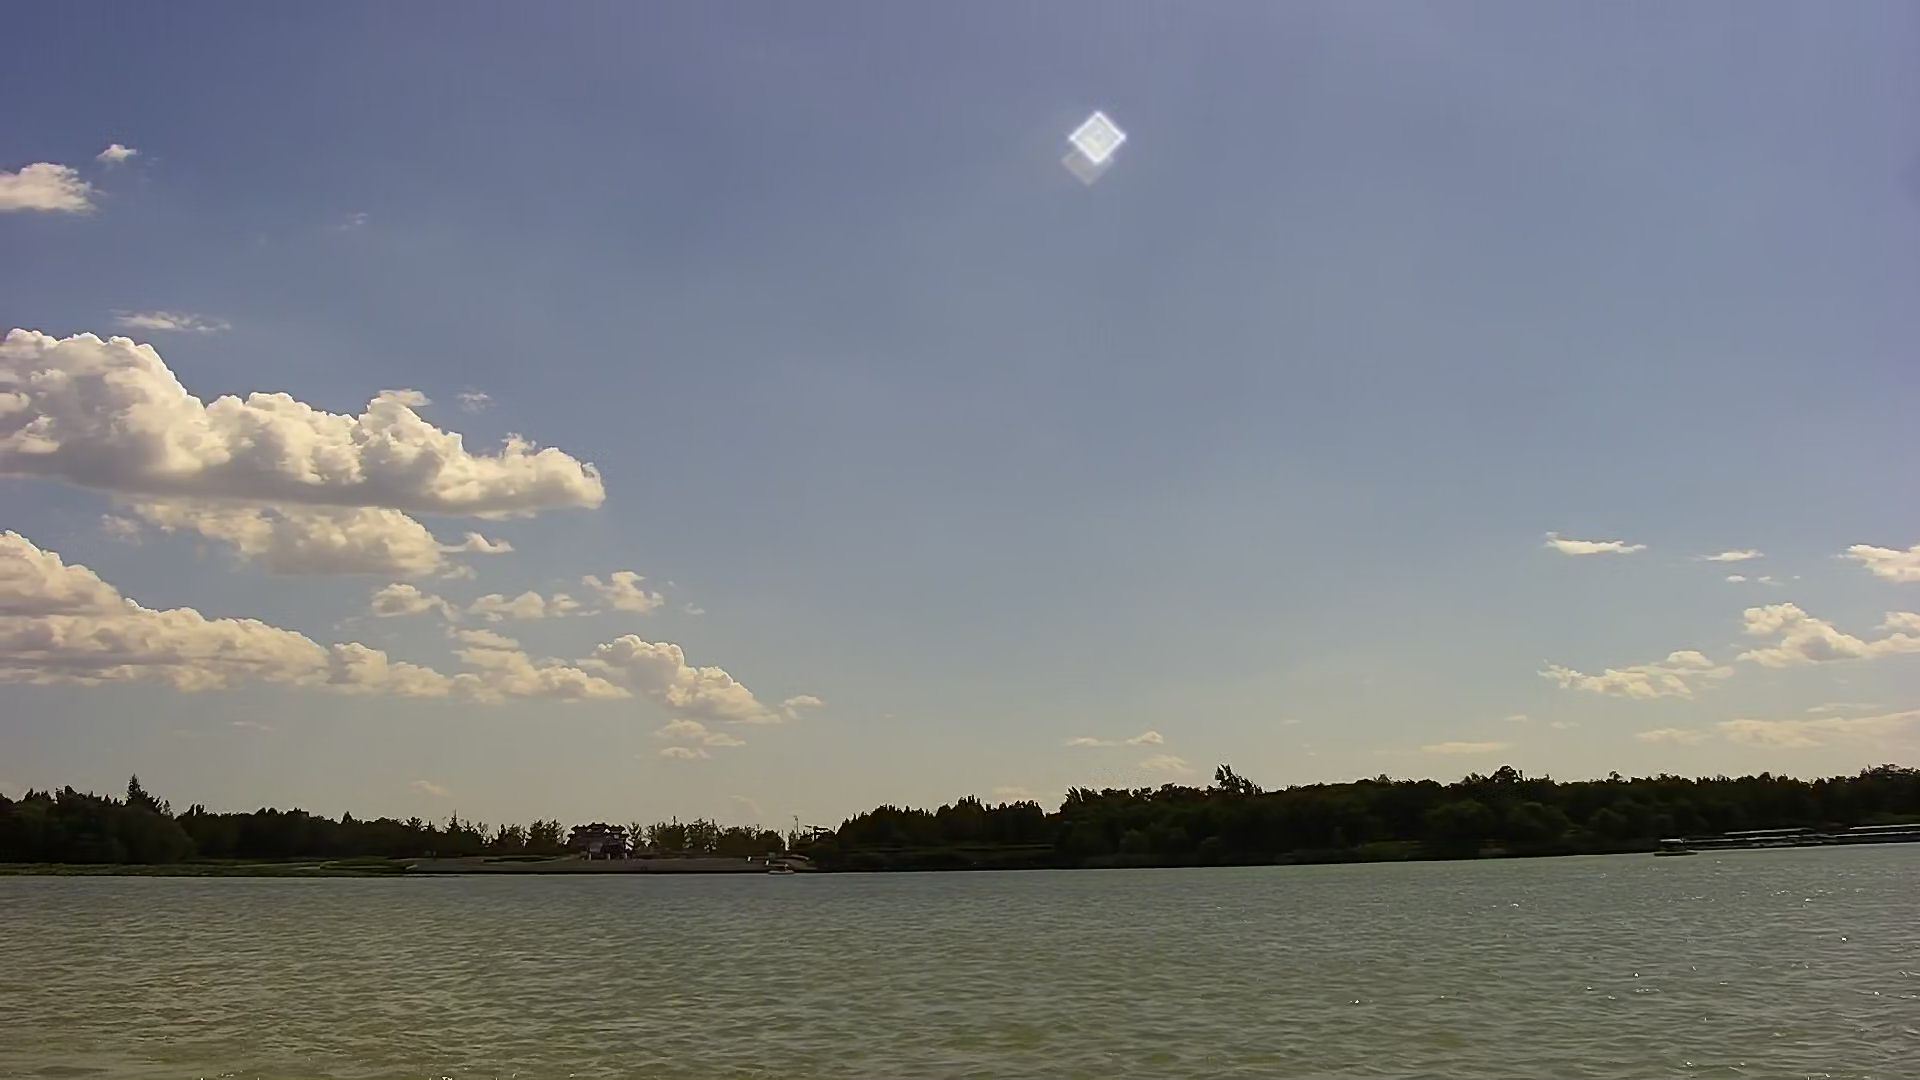boat: (1655, 829, 1681, 855)
harbor: (1705, 822, 1916, 847)
